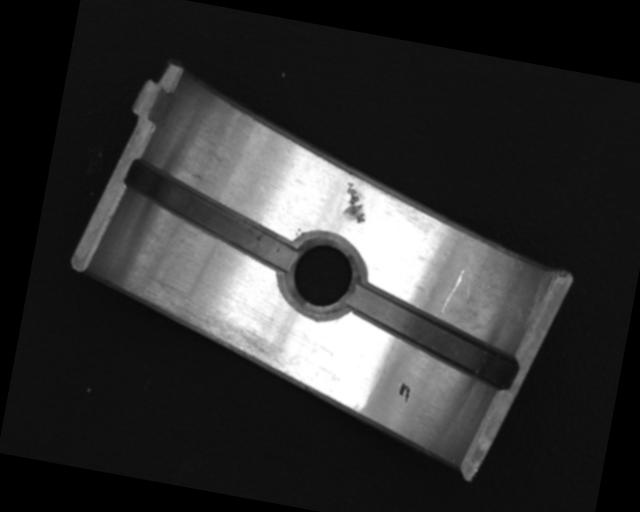blot: (396, 381, 413, 403)
bruise: (338, 179, 371, 225)
gap: (116, 159, 306, 271), (340, 284, 525, 389)
hole: (277, 228, 366, 324)
nick: (440, 265, 467, 318)
scratch: (126, 272, 297, 374)
